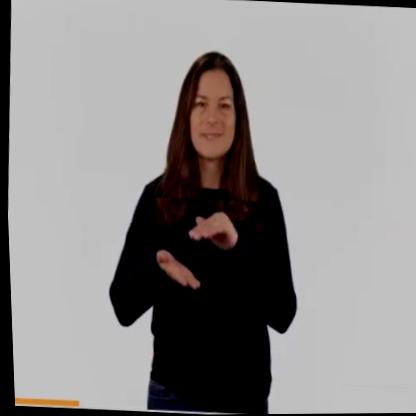ExcuseMe: (149, 197, 257, 303)
